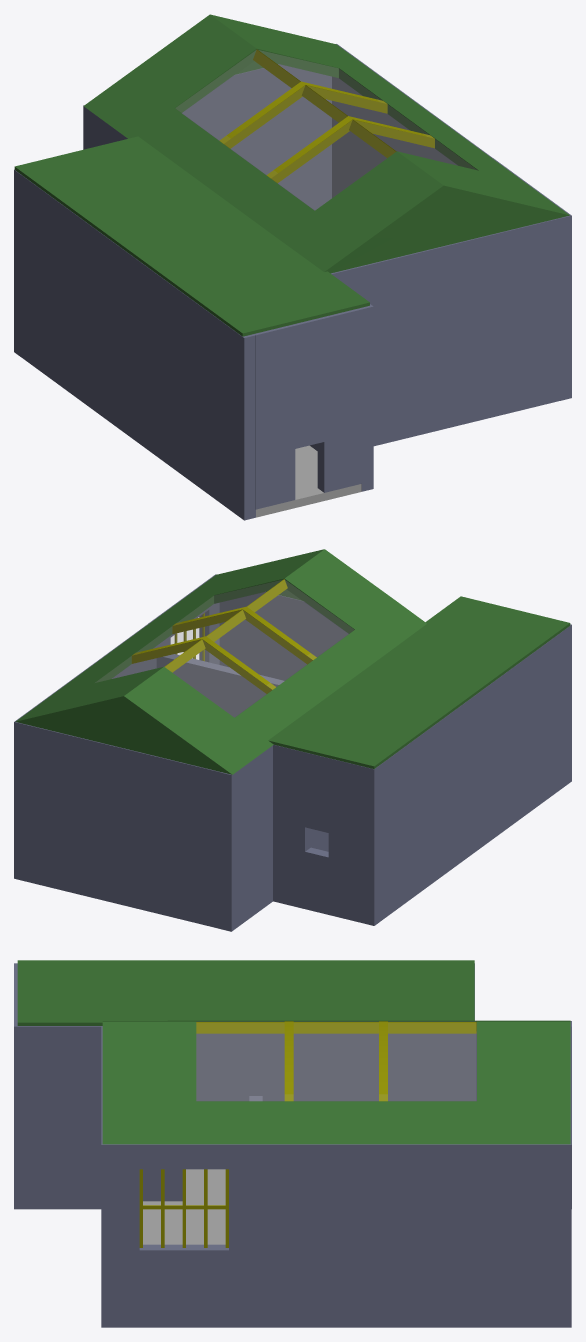
Rendered from RoomLayout_Draft4.fbx.
3 renders of one model, top to bottom at view 1: azimuth 30°, elevation 25°; view 2: azimuth 150°, elevation 25°; view 3: azimuth 270°, elevation 25°, orthographic. The views are drawn at different scales.
Visible parts, largest first — view 1: HoledRoof, LongestWall, OutWall1, FlatRoof, GlassRoof, ExitDoorway, OutWall2, OutWall4, BigWindowWall, Horizontal1, Horizontal2, ShortWall (+4 smaller); view 2: HoledRoof, OutWall2, LongestWall, FlatRoof, WindowWall, GlassRoof, OutWall3, OutWall1, ThinWall5, OutWall4, Horizontal1, Horizontal2 (+2 smaller); view 3: OutWall4, HoledRoof, FlatRoof, BigWindowWall, GlassRoof, ShortWall, OutWall3, LongestWall, Strikethrough, Floor1, BigFramedWindow, Floor2 (+2 smaller).
Boxes of the visible parts, <box> form: HoledRoof: <box>84,14,569,273</box>; LongestWall: <box>20,174,255,520</box>; OutWall1: <box>331,218,560,446</box>; FlatRoof: <box>14,136,369,336</box>; GlassRoof: <box>175,50,476,210</box>; ExitDoorway: <box>254,308,362,509</box>; OutWall2: <box>182,64,331,210</box>; OutWall4: <box>332,44,493,197</box>; BigWindowWall: <box>493,158,571,400</box>; Horizontal1: <box>219,81,387,148</box>; Horizontal2: <box>266,116,434,183</box>; ShortWall: <box>310,304,373,491</box>; HoledRoof: <box>15,549,426,774</box>; OutWall2: <box>24,724,221,929</box>; LongestWall: <box>380,624,571,921</box>; FlatRoof: <box>268,596,570,768</box>; WindowWall: <box>273,745,379,925</box>; GlassRoof: <box>95,580,353,717</box>; OutWall3: <box>221,745,328,931</box>; OutWall1: <box>219,591,348,680</box>; ThinWall5: <box>156,654,284,717</box>; OutWall4: <box>14,623,158,880</box>; Horizontal1: <box>131,636,275,693</box>; Horizontal2: <box>172,606,316,664</box>; OutWall4: <box>257,1139,571,1327</box>; HoledRoof: <box>102,1020,570,1144</box>; FlatRoof: <box>17,960,474,1025</box>; BigWindowWall: <box>101,1139,257,1327</box>; GlassRoof: <box>196,1021,476,1100</box>; ShortWall: <box>14,1021,182,1209</box>; OutWall3: <box>302,1021,571,1208</box>; LongestWall: <box>14,963,301,1101</box>; Strikethrough: <box>196,1022,476,1033</box>; Floor1: <box>143,1200,225,1244</box>; BigFramedWindow: <box>139,1169,228,1247</box>; Floor2: <box>186,1169,225,1200</box>.
Bounding box in the file's own units: 23.97 × 15 × 31.14.
